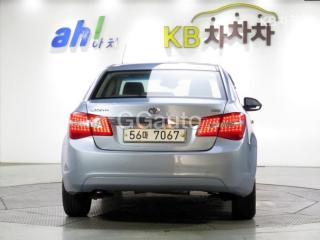0: (160, 130, 167, 140)
5: (129, 130, 136, 140)
6: (167, 131, 174, 140), (136, 130, 142, 140)
7: (152, 129, 160, 141), (173, 130, 180, 140)
plate: (118, 125, 190, 146)
마: (141, 130, 150, 141)
